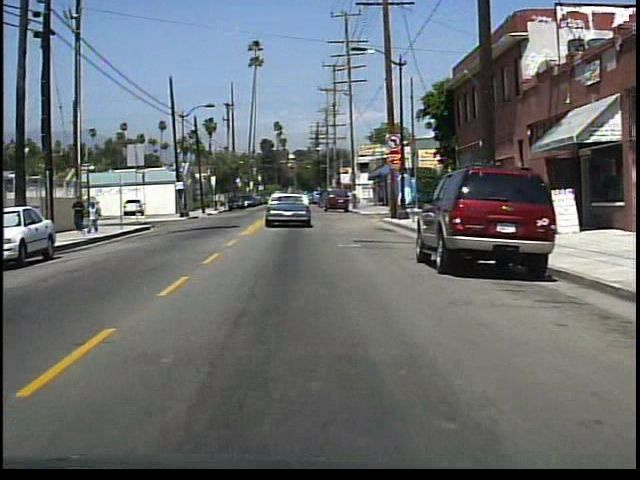person: (73, 193, 90, 234), (87, 200, 103, 235)
